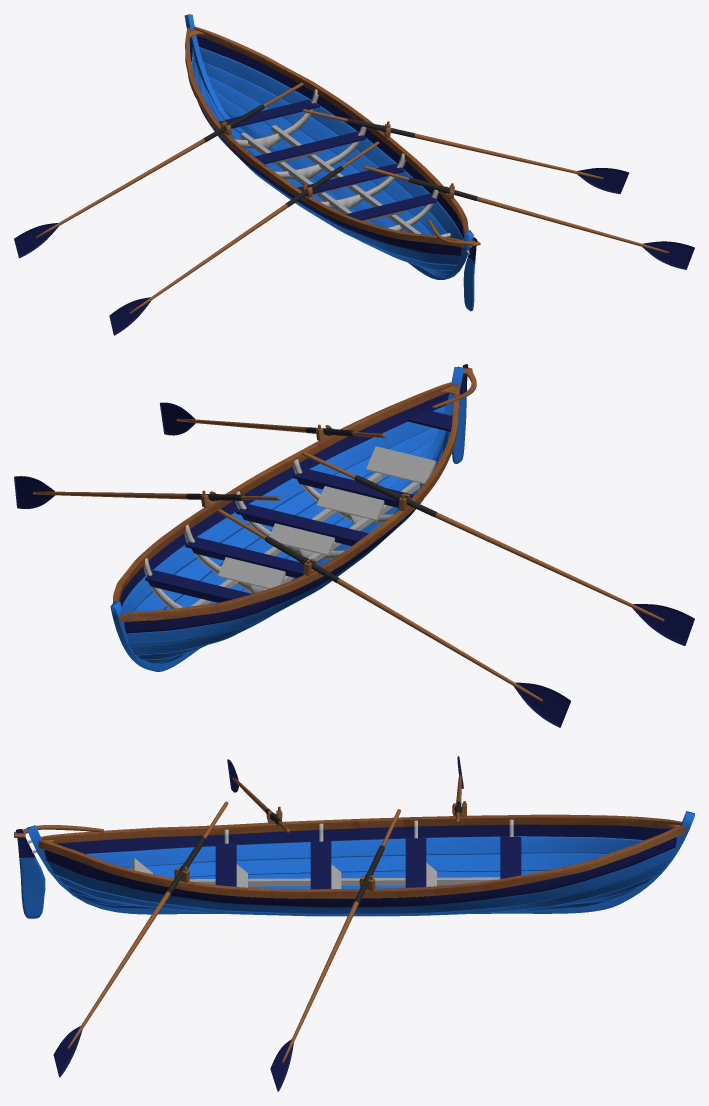
Rendered from skiff.glb.
3 views of the same model, one above another, from view 1: azimuth 30°, elevation 25°; view 2: azimuth 150°, elevation 25°; view 3: azimuth 270°, elevation 25° (orthographic). The views are drawn at different scales.
Parts seen in each view (by area): view 1: Plane.010 (×2), gunwhale, Plane.006 (×2), stroke oar (×2), oar 2 (×2), oar 1 (×2), oar 3 (×2), BezierCurve, Plane.009, Cube.007, Plane.007, Plane.011 (+6 smaller); view 2: Plane.010 (×2), gunwhale, Plane.006 (×2), oar 3 (×3), oar 1 (×2), oar 2 (×2), BezierCurve, stroke oar (×2), Cube.008, Plane.011, Plane.009, Cube.009 (+8 smaller); view 3: Plane.006 (×2), Plane.010 (×2), gunwhale, BezierCurve, stroke oar (×2), oar 2 (×2), Cube.006, Plane.014, Plane.009, Plane.011, Plane.007, Plane.008.
Boxes of the visible parts, x1,y1,x2,y2 form: Plane.010 (×2): (196, 35, 464, 239); gunwhale: (185, 26, 468, 247); Plane.006 (×2): (189, 37, 461, 278); stroke oar (×2): (363, 165, 694, 269); oar 2 (×2): (302, 109, 628, 193); oar 1 (×2): (14, 82, 303, 258); oar 3 (×2): (109, 141, 379, 335); BezierCurve: (184, 14, 473, 279); Plane.009: (254, 131, 365, 164); Cube.007: (271, 125, 421, 233); Plane.007: (345, 193, 436, 220); Plane.011: (297, 163, 404, 193); Plane.010 (×2): (119, 393, 449, 612); gunwhale: (113, 382, 459, 622); Plane.006 (×2): (124, 412, 452, 663); oar 3 (×3): (302, 451, 694, 645); oar 1 (×2): (218, 509, 570, 727); oar 2 (×2): (14, 476, 280, 508); BezierCurve: (110, 366, 464, 671); stroke oar (×2): (159, 402, 385, 437); Cube.008: (366, 446, 436, 483); Plane.011: (236, 504, 368, 542); Plane.009: (185, 537, 303, 575); Cube.009: (317, 486, 384, 520); Plane.006 (×2): (56, 824, 671, 889); Plane.010 (×2): (44, 837, 676, 916); gunwhale: (38, 814, 685, 898); BezierCurve: (27, 811, 694, 914); stroke oar (×2): (53, 801, 228, 1077); oar 2 (×2): (270, 809, 400, 1091); Cube.006: (189, 877, 500, 886); Plane.014: (19, 857, 45, 918); Plane.009: (405, 838, 426, 887); Plane.011: (310, 840, 331, 889); Plane.007: (215, 842, 236, 886); Plane.008: (500, 835, 521, 878).
Bounding box in the file's own units: 48.36 × 9.9 × 45.21.
7 materials, 2 textured.
